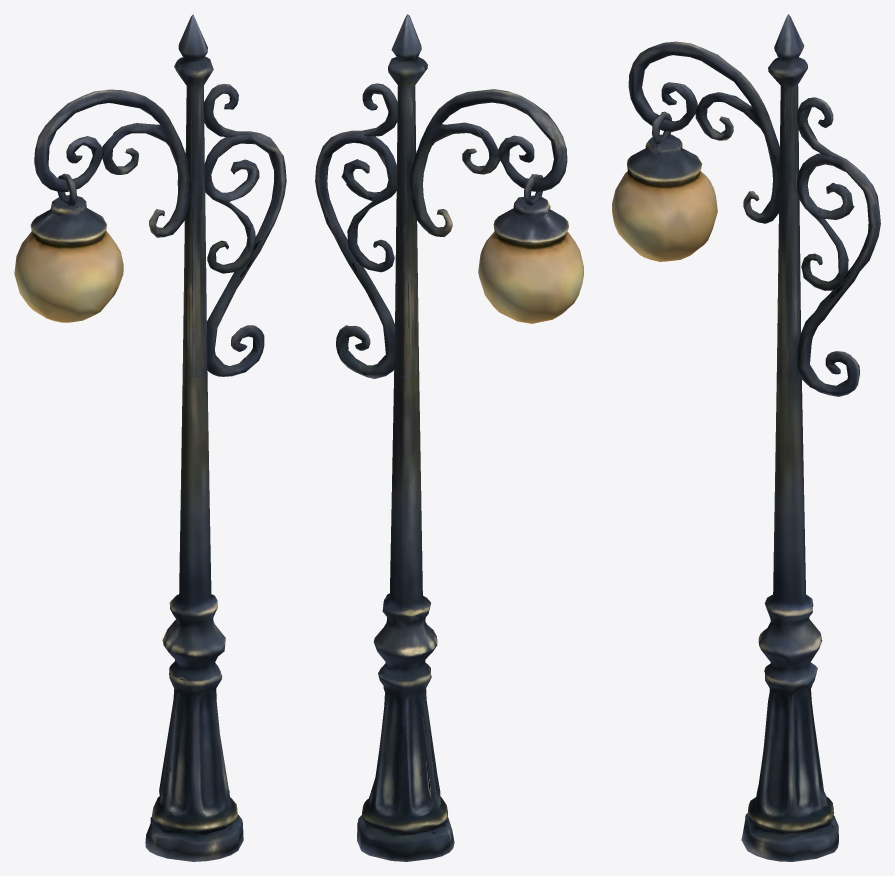
The model's file is lamp-ornate.glb.
3 renders of one model, left to right at view 1: azimuth 30°, elevation 25°; view 2: azimuth 150°, elevation 25°; view 3: azimuth 330°, elevation 25°, orthographic.
Parts seen in each view (by area): view 1: geometry_0; view 2: geometry_0; view 3: geometry_0.
Boxes of the visible parts, x1=… form: geometry_0: x1=14, y1=14, x2=286, y2=861; geometry_0: x1=315, y1=14, x2=583, y2=861; geometry_0: x1=612, y1=14, x2=880, y2=861.
Bounding box in the file's own units: 0.3159 × 0.9517 × 0.1104.
1 material, 1 textured.
